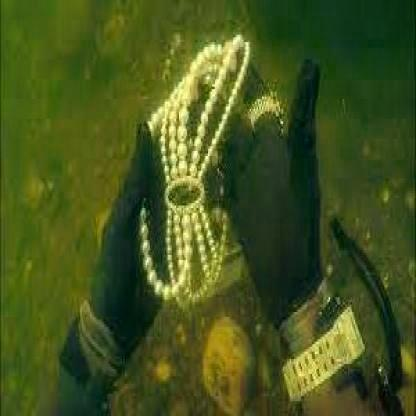misc: (142, 27, 252, 310)
